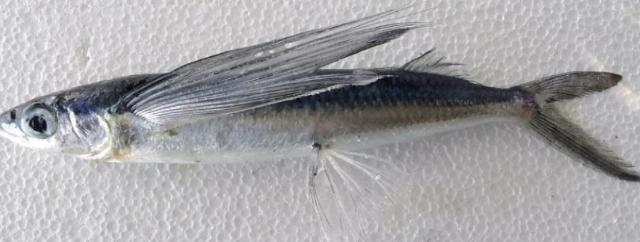Sirip Dada: (98, 4, 436, 136)
Sirip Ekor: (502, 61, 640, 195)
Sirip Perut: (294, 139, 416, 241)
Sirip Punggung: (395, 38, 489, 94)
